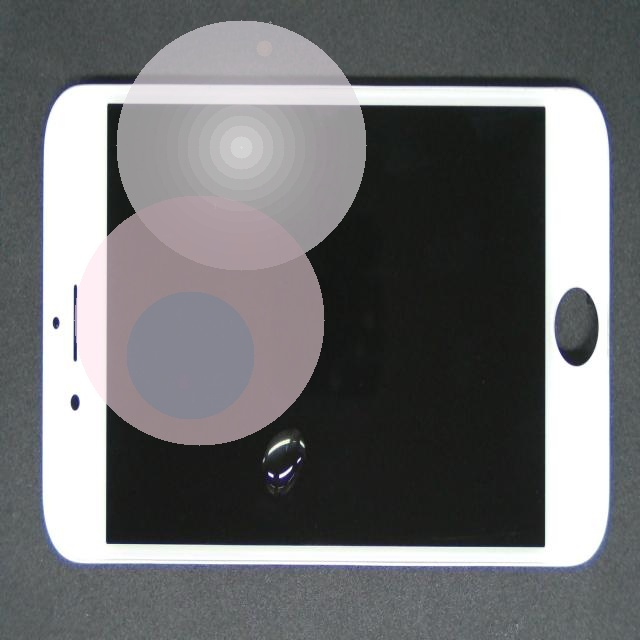oil: (174, 232, 470, 640)
